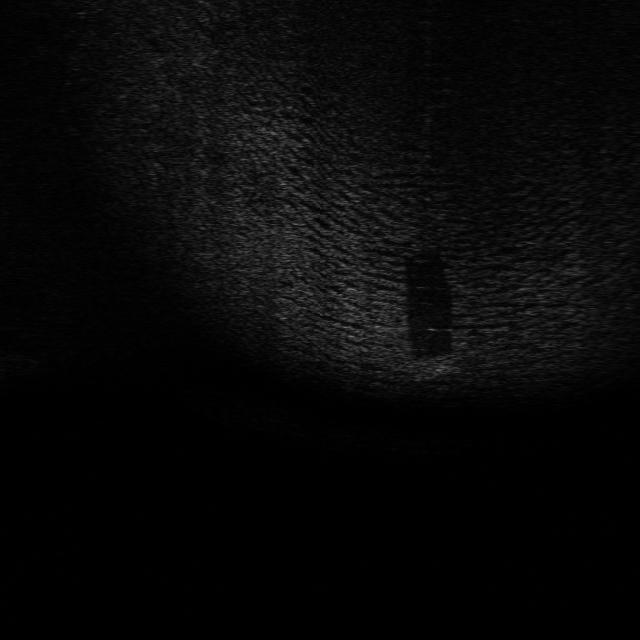cube: (393, 275, 461, 300)
